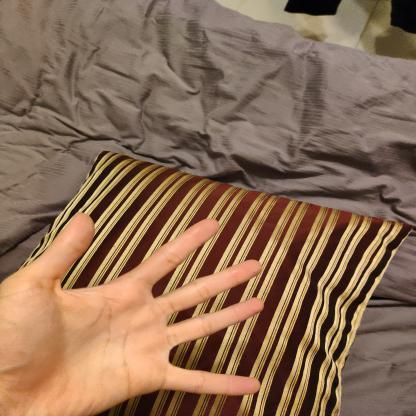bare_hand: (1, 202, 282, 416)
